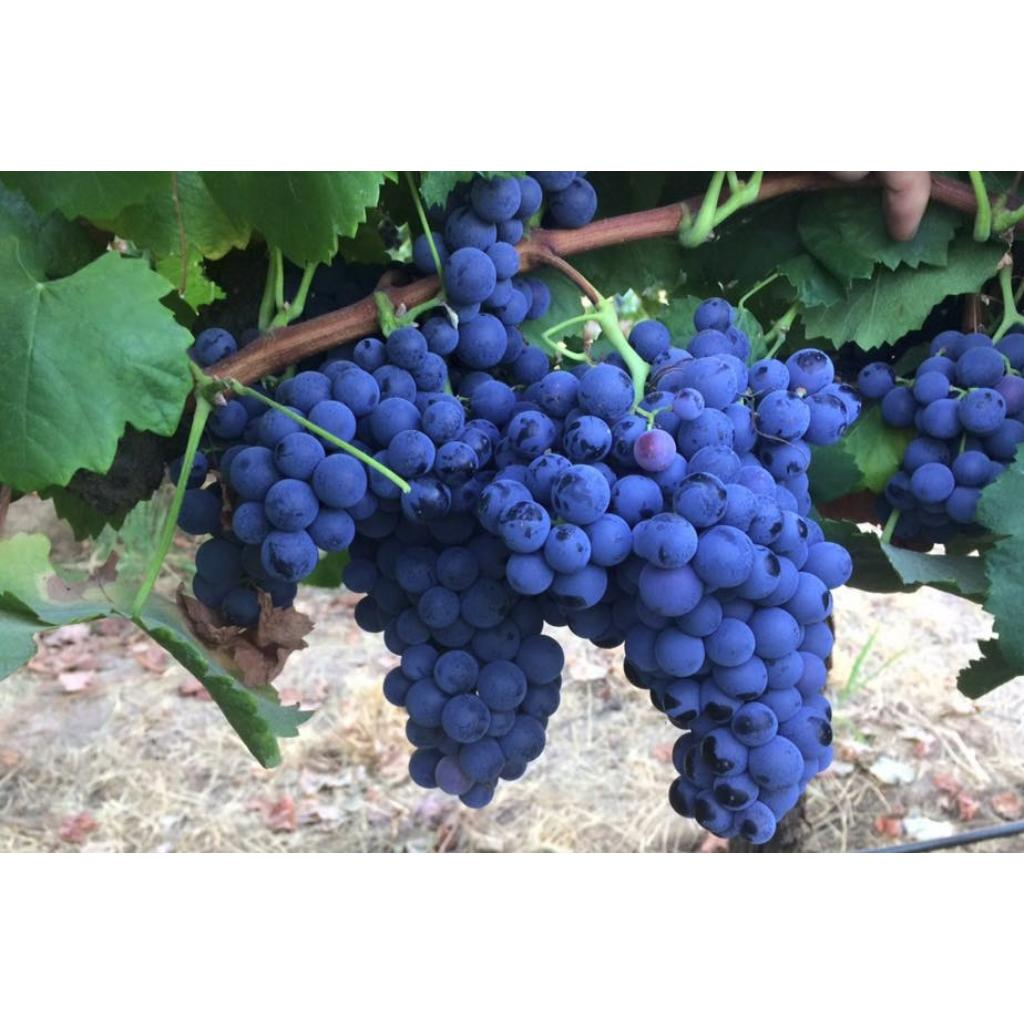grape: (180, 179, 862, 845), (210, 365, 464, 583), (862, 333, 1024, 490)
